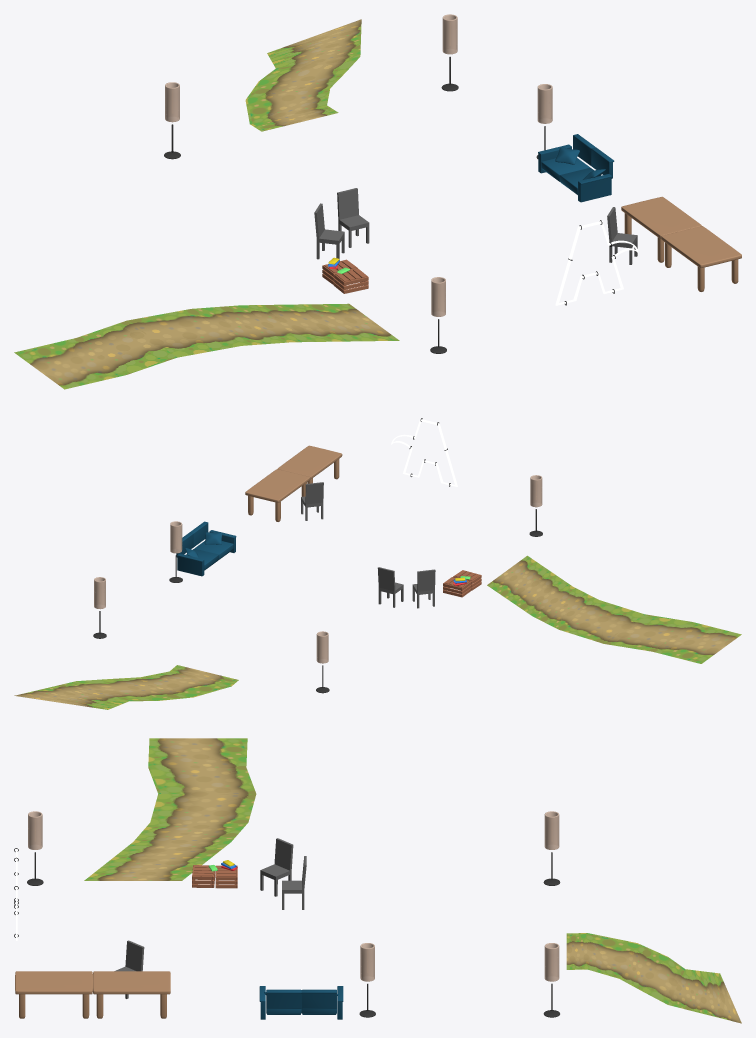
The model's file is d2x3Shape Sampleroom - Deko.glb.
The picture shows the model from 3 angles, top to bottom: view 1: azimuth 30°, elevation 25°; view 2: azimuth 150°, elevation 25°; view 3: azimuth 270°, elevation 25°; orthographic projection. The views are drawn at different scales.
Visible parts, largest first — view 1: Deko_2x3 suburb; view 2: Deko_2x3 suburb; view 3: Deko_2x3 suburb.
Part boxes in pixels (box(x1,y1,x2,y2)): Deko_2x3 suburb: box(14, 14, 741, 389); Deko_2x3 suburb: box(14, 418, 741, 709); Deko_2x3 suburb: box(14, 738, 741, 1023).
Bounding box in the file's own units: 15.8 × 2.61 × 16.83.
7 materials, 2 textured.
